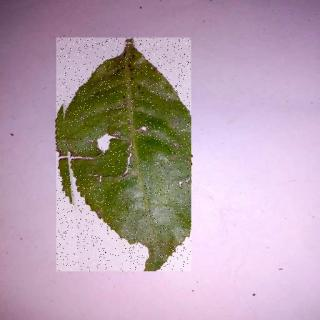Bird Eye Spot: (58, 39, 193, 273)
